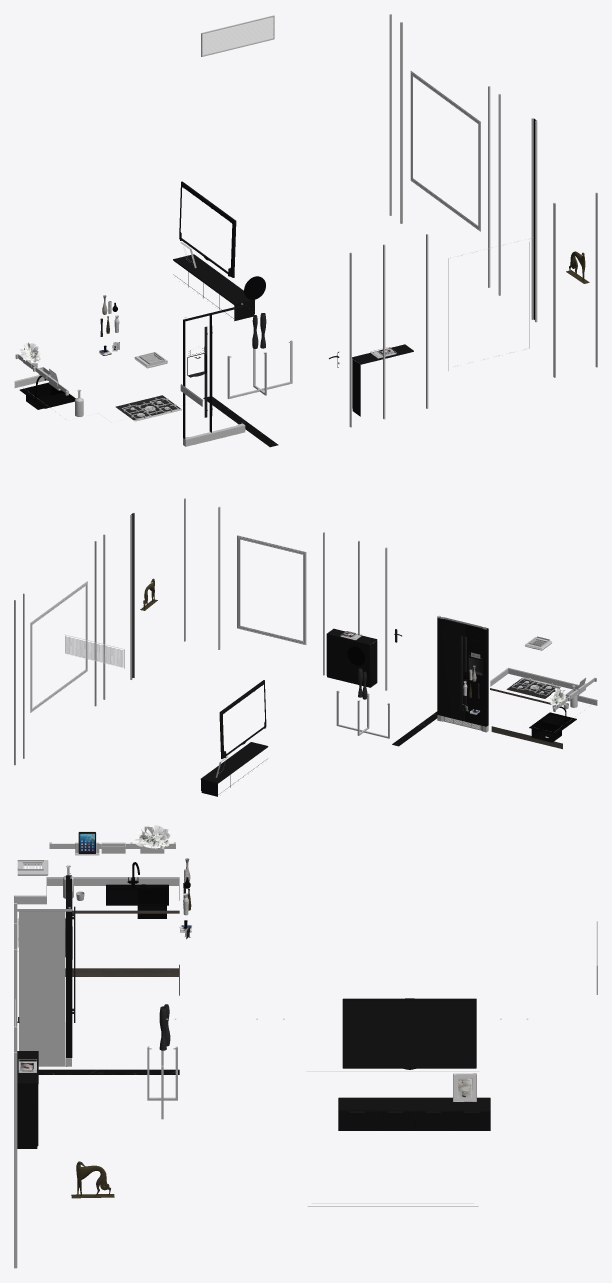
Rendered from Props01.gltf.
3 renders of one model, top to bottom at view 1: azimuth 30°, elevation 25°; view 2: azimuth 150°, elevation 25°; view 3: azimuth 270°, elevation 25°, orthographic. The views are drawn at different scales.
Visible parts, largest first — view 1: Props01; view 2: Props01; view 3: Props01.
Part boxes in pixels (x1,y1,x2,y2): Props01: (14,14,597,447); Props01: (14,498,597,796); Props01: (14,825,597,1268).
Size of the model in its own units: 8.04 by 2.89 by 6.14.
Materials: 22 (13 with a texture image).
